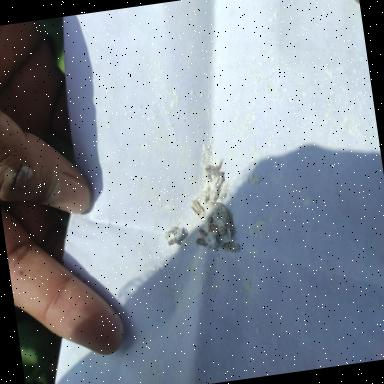pbw: (188, 198, 206, 223), (208, 175, 225, 201), (204, 157, 224, 178), (222, 207, 234, 239), (215, 238, 240, 253), (207, 222, 226, 238), (194, 234, 208, 247), (198, 226, 208, 240)
